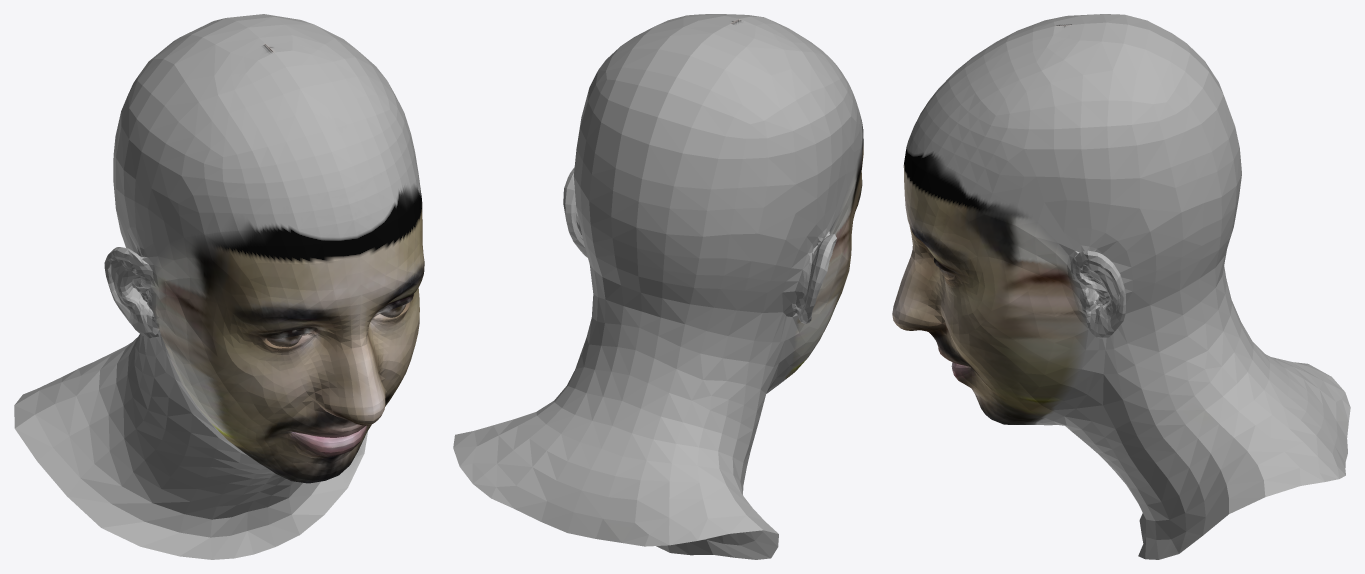
The model's file is ezgif-frame-070.obj.
3 views of the same model, side by side, from view 1: azimuth 30°, elevation 25°; view 2: azimuth 150°, elevation 25°; view 3: azimuth 270°, elevation 25° (orthographic). The views are drawn at different scales.
Bounding box in the file's own units: 0.2102 × 0.3287 × 0.2665.
Materials: 1 (1 with a texture image).
